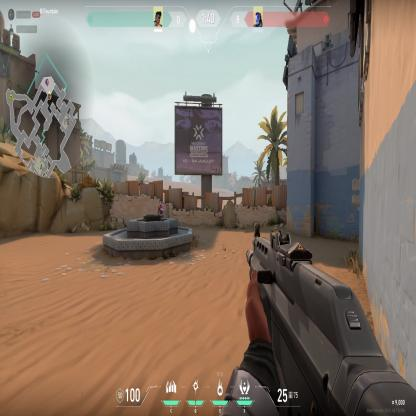enemy: (157, 200, 164, 218)
